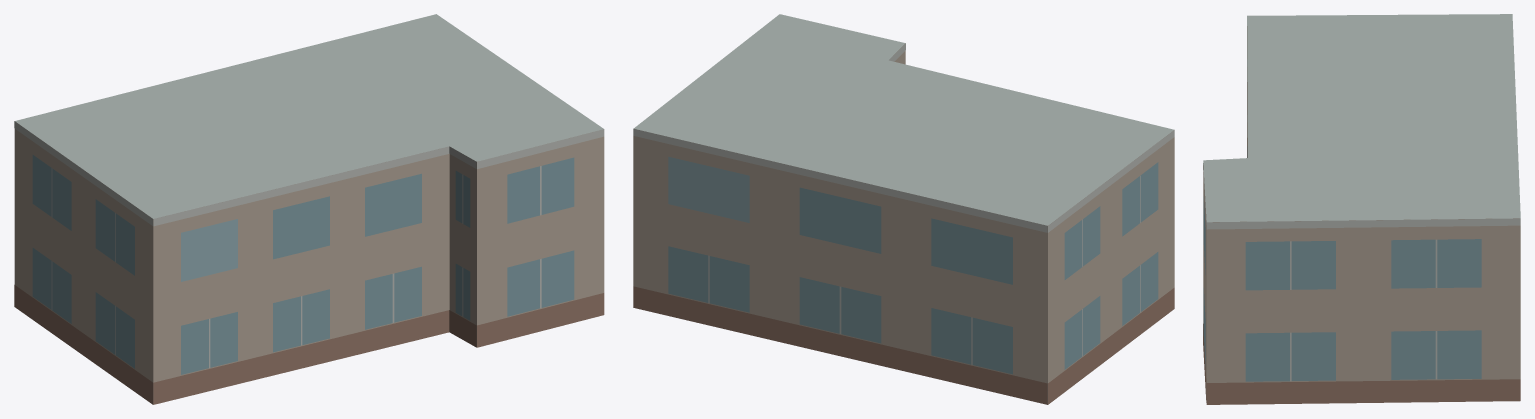
The model's file is survey-upis-32694802.glb.
3 views of the same model, side by side, from view 1: azimuth 30°, elevation 25°; view 2: azimuth 150°, elevation 25°; view 3: azimuth 270°, elevation 25° (orthographic). The views are drawn at different scales.
Parts seen in each view (by area): view 1: survey-upis-32694802.tmp; view 2: survey-upis-32694802.tmp; view 3: survey-upis-32694802.tmp.
Part boxes in pixels (left/top/right/bottom): survey-upis-32694802.tmp: left=14, top=14, right=604, bottom=404; survey-upis-32694802.tmp: left=633, top=14, right=1174, bottom=404; survey-upis-32694802.tmp: left=1203, top=14, right=1520, bottom=404.
Bounding box in the file's own units: 14.92 × 6.1 × 9.62.
